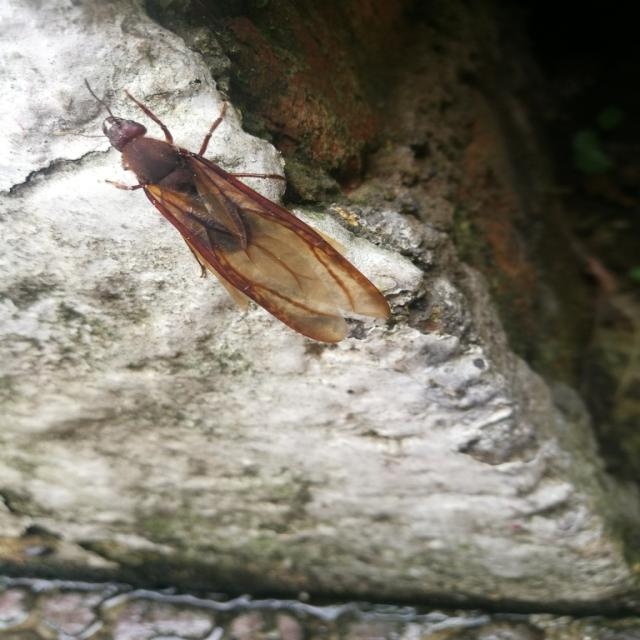Alive-Female-Alate: (53, 77, 391, 343)
